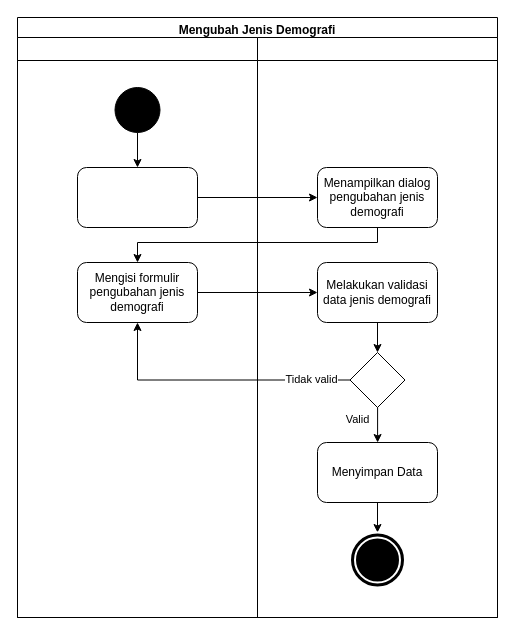
This 515x635 diagram has some shape labels left out. The shapes that lost their labels are listed below. From the top down, each one's box as (x1, y1, x2, y2) in pixels, then its label:
(76, 166, 198, 228): Memilih fitur ubah pada jenis demografi yang diinginkan
(16, 36, 258, 618): Admin
(256, 36, 498, 618): Sistem
